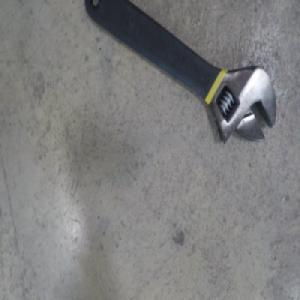AdjustableWrench: (83, 0, 276, 145)
